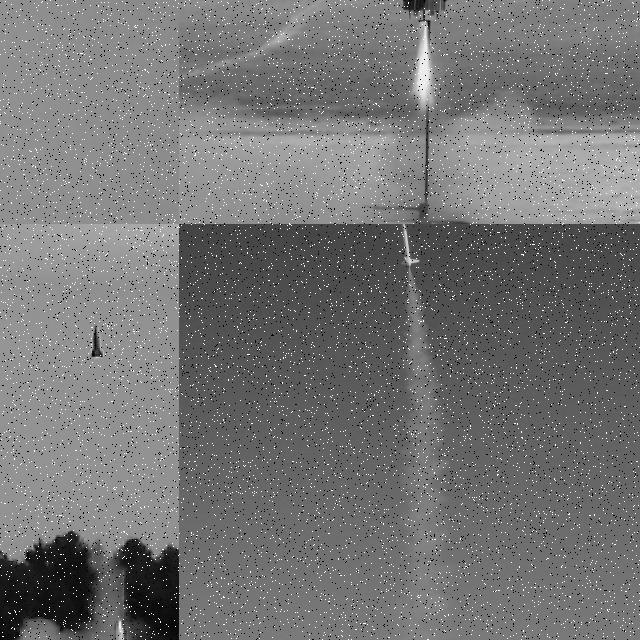Rocket: (400, 224, 420, 267), (88, 324, 105, 359), (111, 617, 127, 640)
